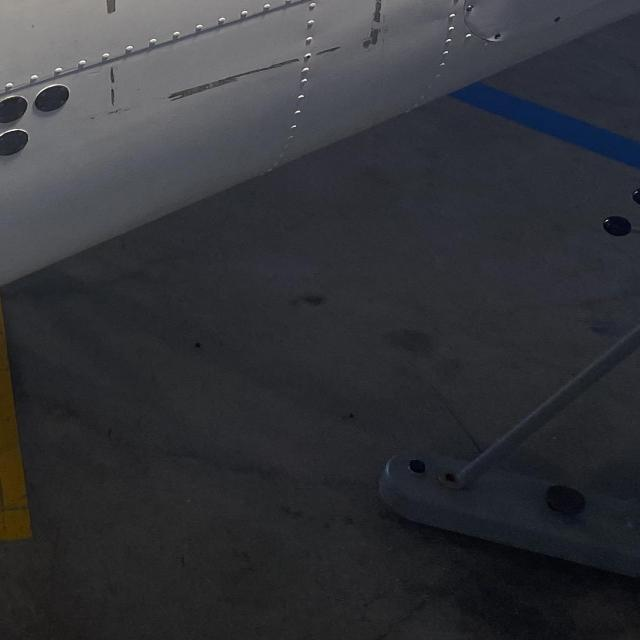Missing-head: (491, 30, 506, 41), (552, 16, 561, 22)
